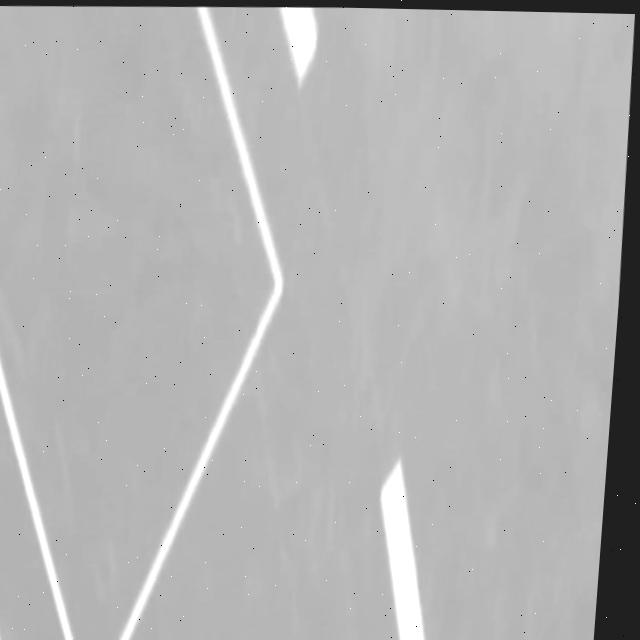center: (380, 459, 423, 640), (279, 7, 316, 86)
